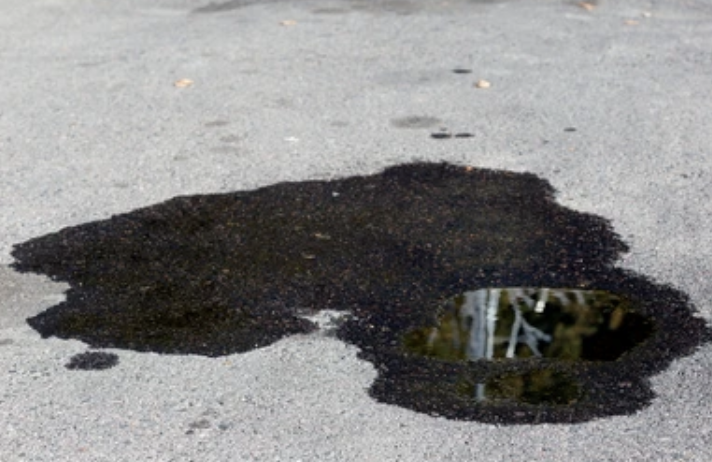oil: (5, 81, 354, 212)
